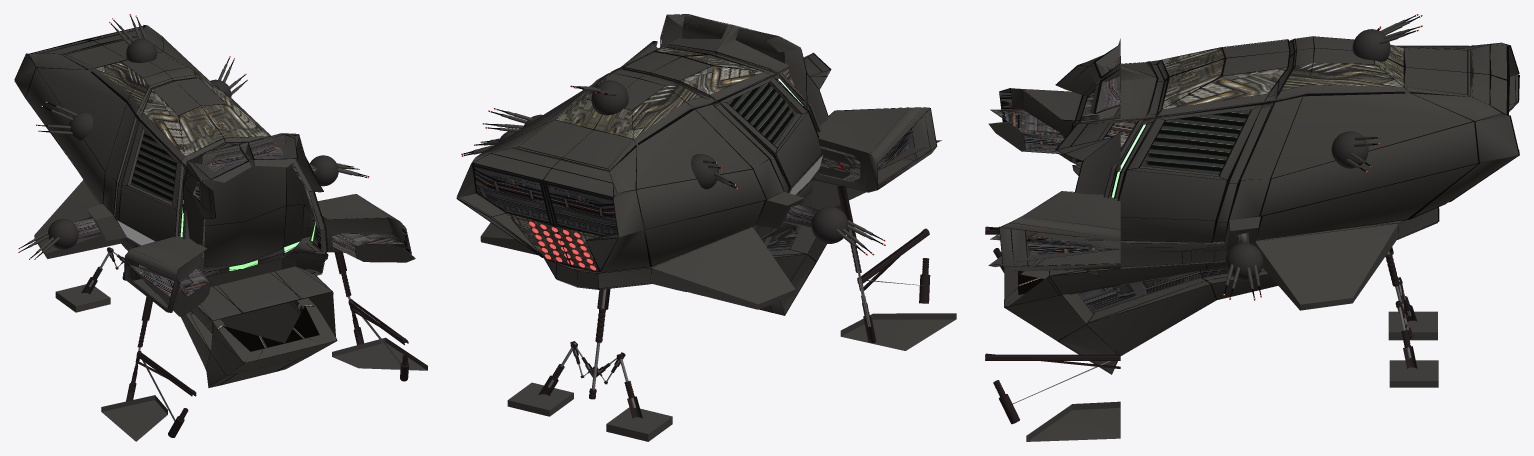
3 renders of one model, left to right at view 1: azimuth 30°, elevation 25°; view 2: azimuth 150°, elevation 25°; view 3: azimuth 270°, elevation 25°, orthographic. The views are drawn at different scales.
Parts seen in each view (by area): view 1: Cube_003_20_0, Cube_002_14_0, Cube_008_16_0, Cube_005_2_0, Cube_006_10_0, Cube_007_6_0, Cube_014_18_0 (×3), Cube_001_22_0; view 2: Cube_003_20_0, Cube_002_14_0, Cube_005_2_0, Cube_008_16_0, Cube_006_10_0, Cube_014_18_0 (×3), Cube_007_6_0, Cube_001_22_0, Cube_012_4_0; view 3: Cube_003_20_0, Cube_002_14_0, Cube_005_2_0, Cube_008_16_0, Cube_007_6_0, Cube_006_10_0, Cube_014_18_0.
Part boxes in pixels (<box>): Cube_003_20_0: <box>14,22,427,441</box>; Cube_002_14_0: <box>14,15,415,387</box>; Cube_008_16_0: <box>61,35,415,351</box>; Cube_005_2_0: <box>96,52,267,155</box>; Cube_006_10_0: <box>48,38,338,314</box>; Cube_007_6_0: <box>131,131,319,202</box>; Cube_014_18_0 (×3): <box>111,255,409,437</box>; Cube_001_22_0: <box>89,249,400,421</box>; Cube_003_20_0: <box>457,14,956,441</box>; Cube_002_14_0: <box>456,14,937,315</box>; Cube_005_2_0: <box>507,47,762,271</box>; Cube_008_16_0: <box>474,24,940,250</box>; Cube_006_10_0: <box>498,80,848,243</box>; Cube_014_18_0 (×3): <box>589,186,930,418</box>; Cube_007_6_0: <box>727,83,796,144</box>; Cube_001_22_0: <box>548,220,923,408</box>; Cube_012_4_0: <box>529,221,596,270</box>; Cube_003_20_0: <box>988,19,1518,441</box>; Cube_002_14_0: <box>988,15,1519,374</box>; Cube_005_2_0: <box>1162,42,1403,109</box>; Cube_008_16_0: <box>988,56,1262,313</box>; Cube_007_6_0: <box>1112,62,1250,174</box>; Cube_006_10_0: <box>1120,29,1390,285</box>; Cube_014_18_0: <box>985,291,1407,424</box>.
Bounding box in the file's own units: 18.29 × 13.96 × 20.22.
Materials: 13 (3 with a texture image).
